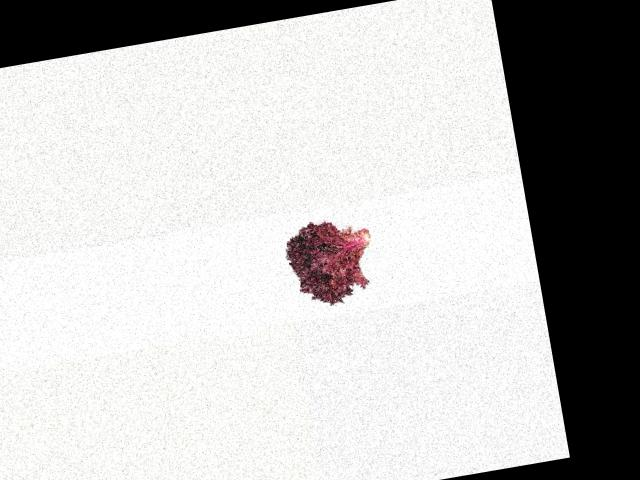lettuce: (277, 214, 389, 314)
